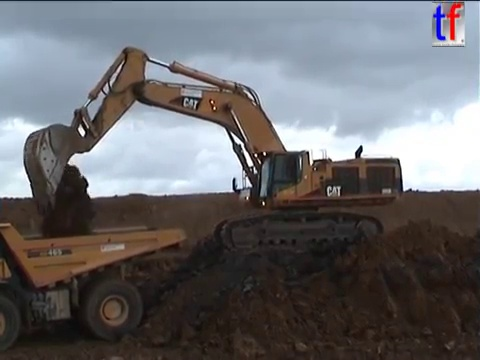excavator: (20, 44, 406, 256)
truck: (1, 220, 189, 353)
